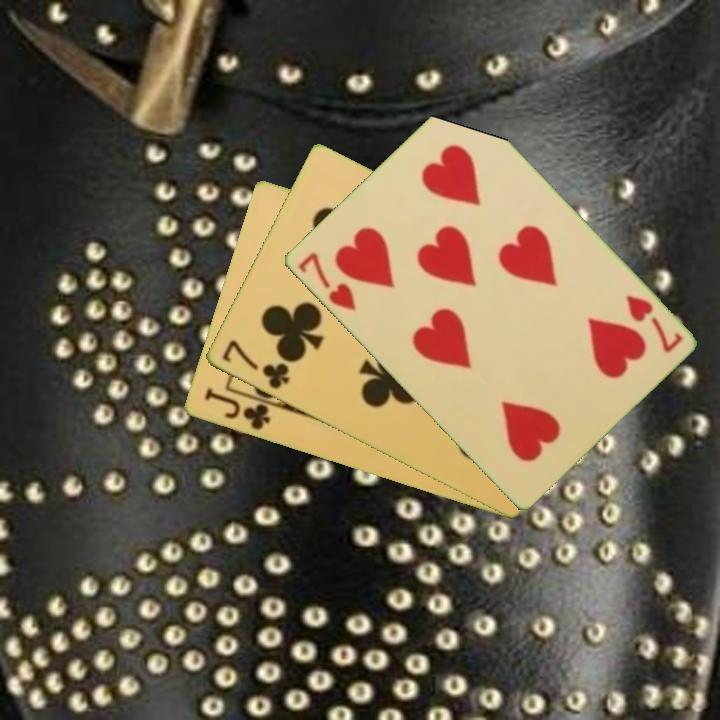7c: (218, 336, 292, 393)
7h: (293, 248, 359, 313), (621, 291, 685, 356)
Jc: (200, 384, 273, 433)
